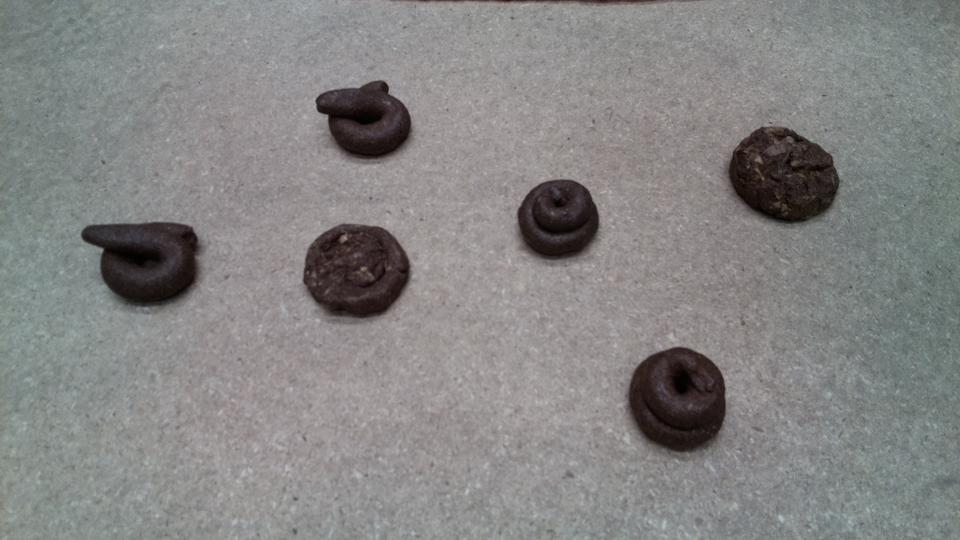poop: (726, 123, 845, 228), (627, 344, 734, 453), (77, 217, 205, 308), (300, 220, 413, 320), (311, 79, 413, 159), (515, 174, 602, 263)
